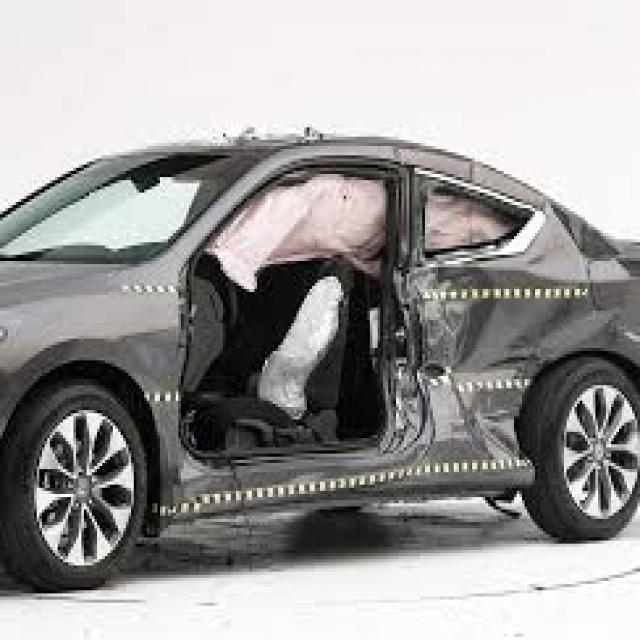severe: (32, 151, 547, 560)
